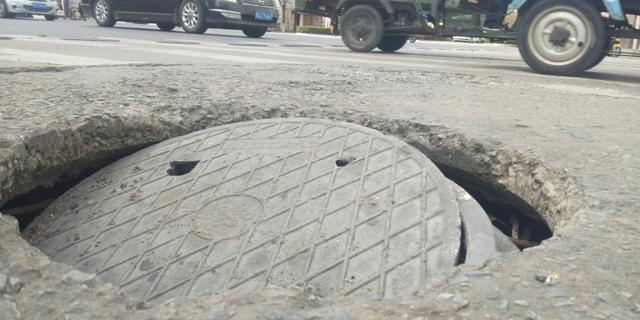wellcover: (0, 86, 598, 320)
